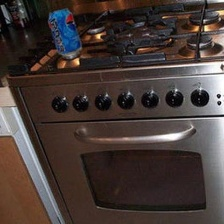can: (44, 4, 84, 64)
